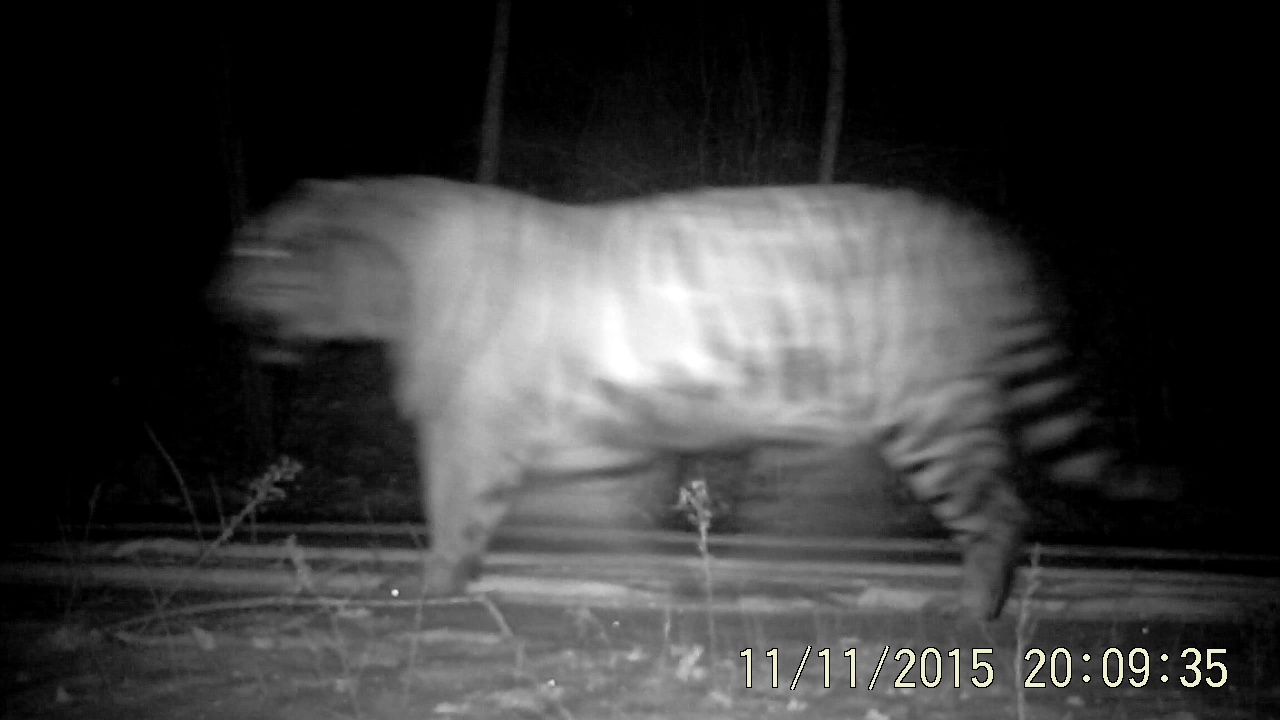Tiger: (177, 88, 1168, 640)
